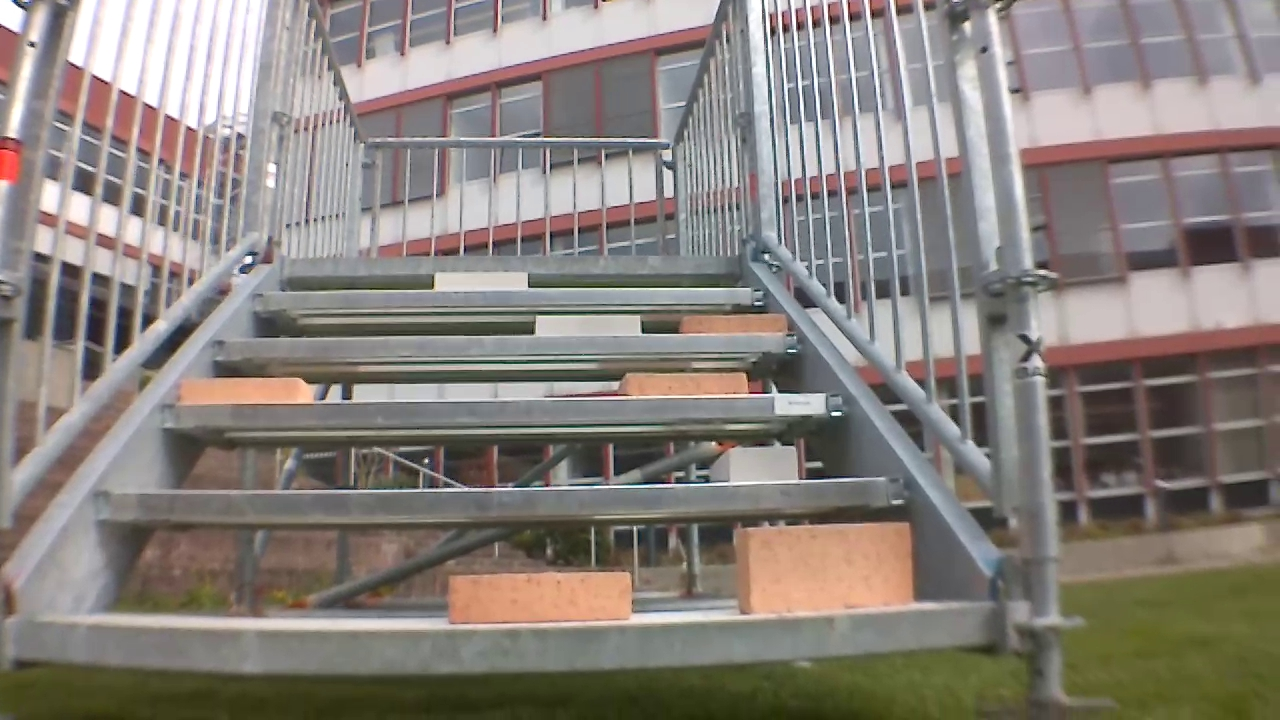brick: (738, 520, 916, 608), (440, 563, 636, 624), (614, 371, 745, 399), (716, 443, 804, 478), (185, 373, 316, 396), (539, 312, 641, 340), (684, 313, 792, 335), (429, 270, 530, 290)
edge: (14, 597, 1009, 669), (84, 473, 907, 525), (156, 391, 851, 435), (203, 331, 808, 362), (250, 281, 770, 310), (280, 252, 750, 277)
stairs: (0, 0, 1075, 710)
steps: (2, 247, 1047, 667)
